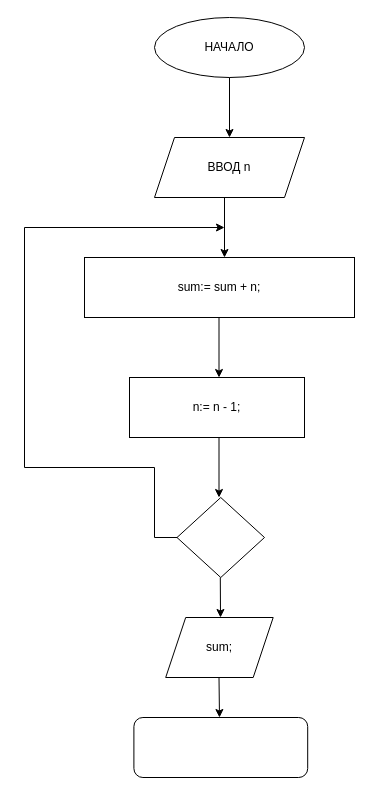
This 372x795 diagram has some shape labels left out. The shapes that lost their labels are listed below. From the top down, each one's centre as x and y in pixels, then its label:
At (x=220, y=537): "n=0".
At (x=220, y=747): "КОНЕЦ".
